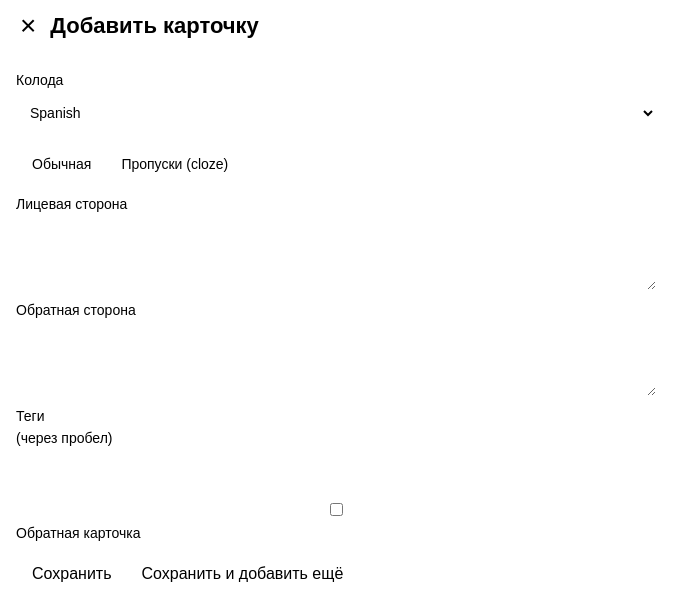
Test: cloze card editor › shows a client-side error instead of submitting cloze text without a deletion
The image size is (673, 601).
Expected: the dropdown labelled "Колода" is shown, [16,94,656,132]
Click the button "Пропуски (cloze)": (175, 164) [115,155,234,173]
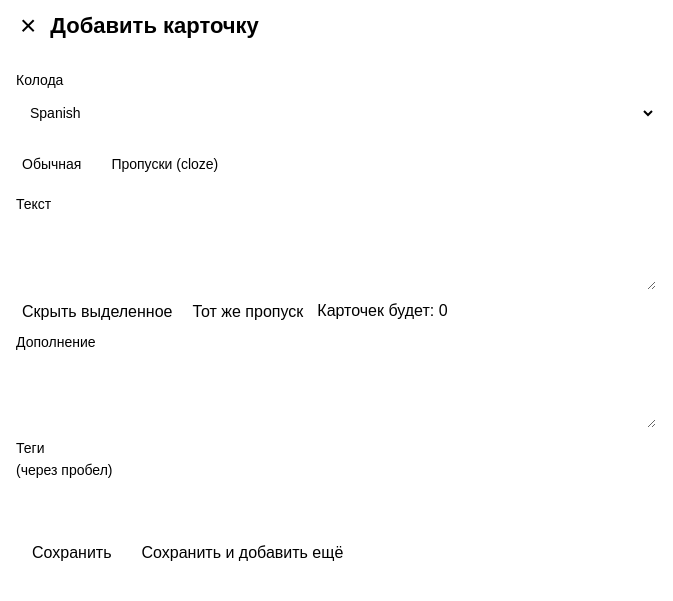
In the text box labelled "Текст": (336, 254) [16,218,656,290], type "plain text"
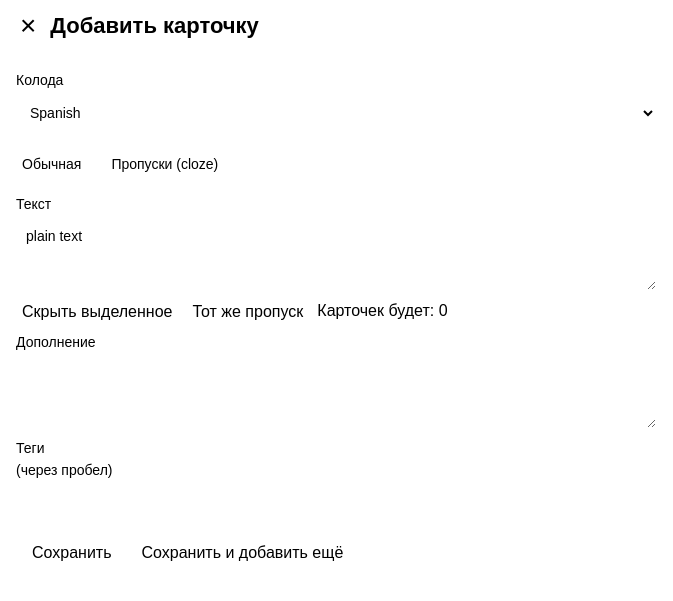
Click the button "Сохранить": (72, 553) [16,532,128,574]
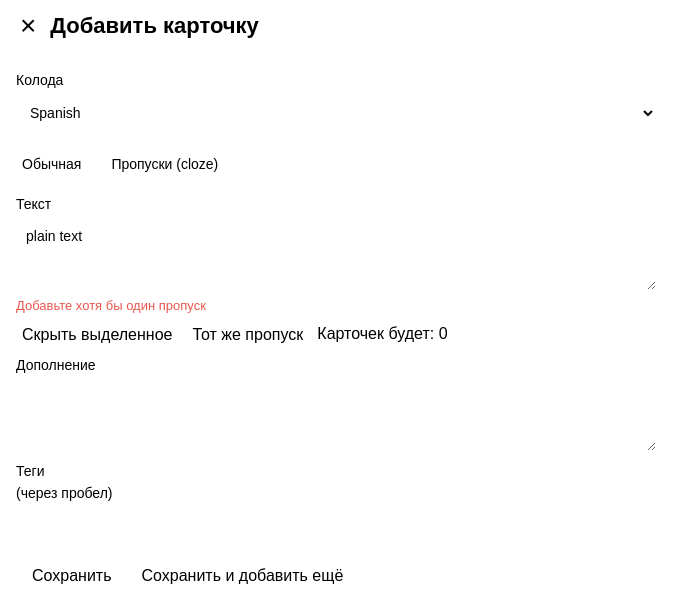
Expected: the message reads "Добавьте хотя бы один пропуск", [16,298,206,313]
